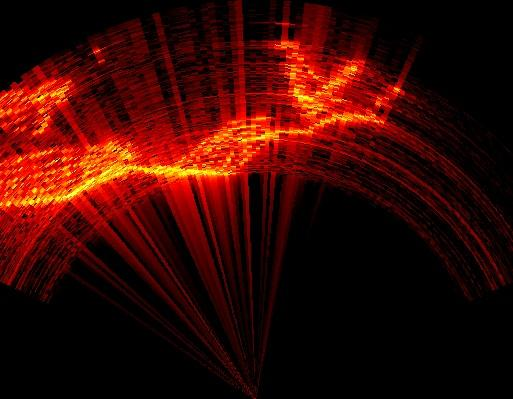shipwreck: (0, 42, 400, 207), (0, 81, 68, 139)
